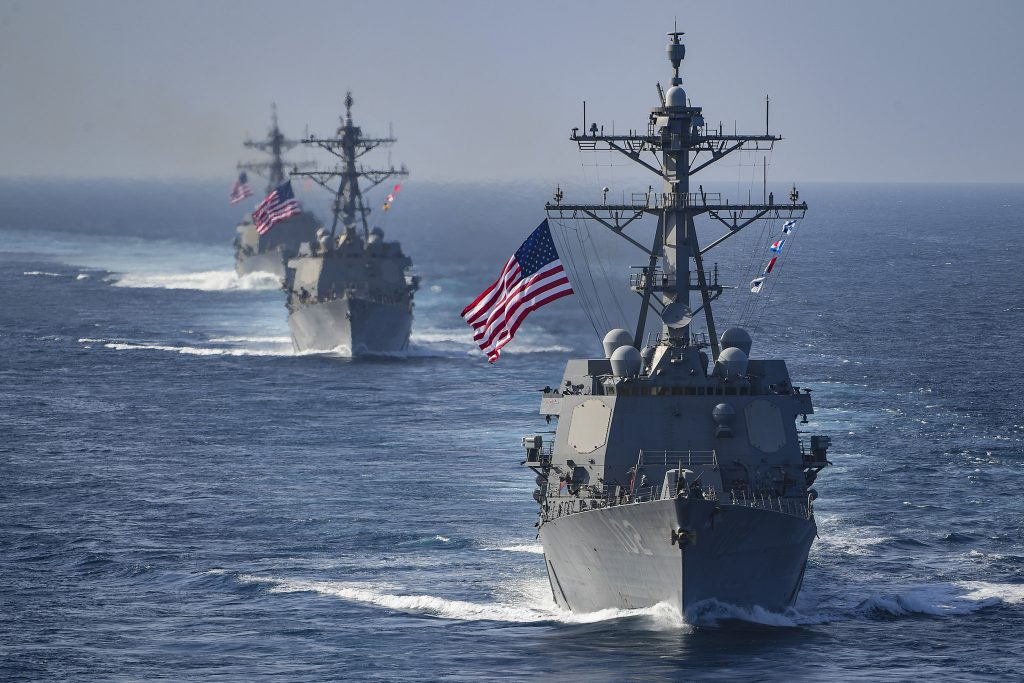ship: (485, 22, 819, 600), (296, 92, 409, 367), (231, 102, 314, 286)
